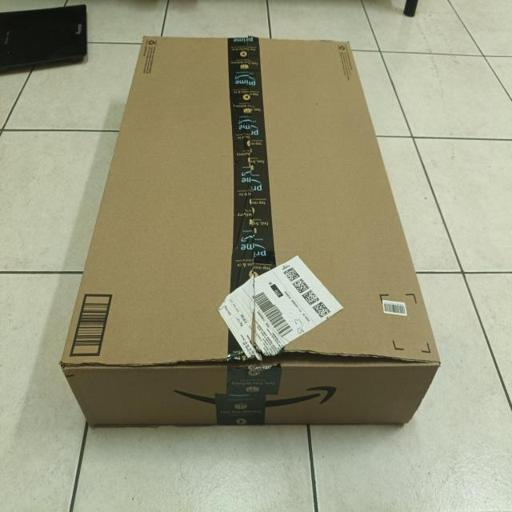Amazon: (64, 32, 424, 426)
